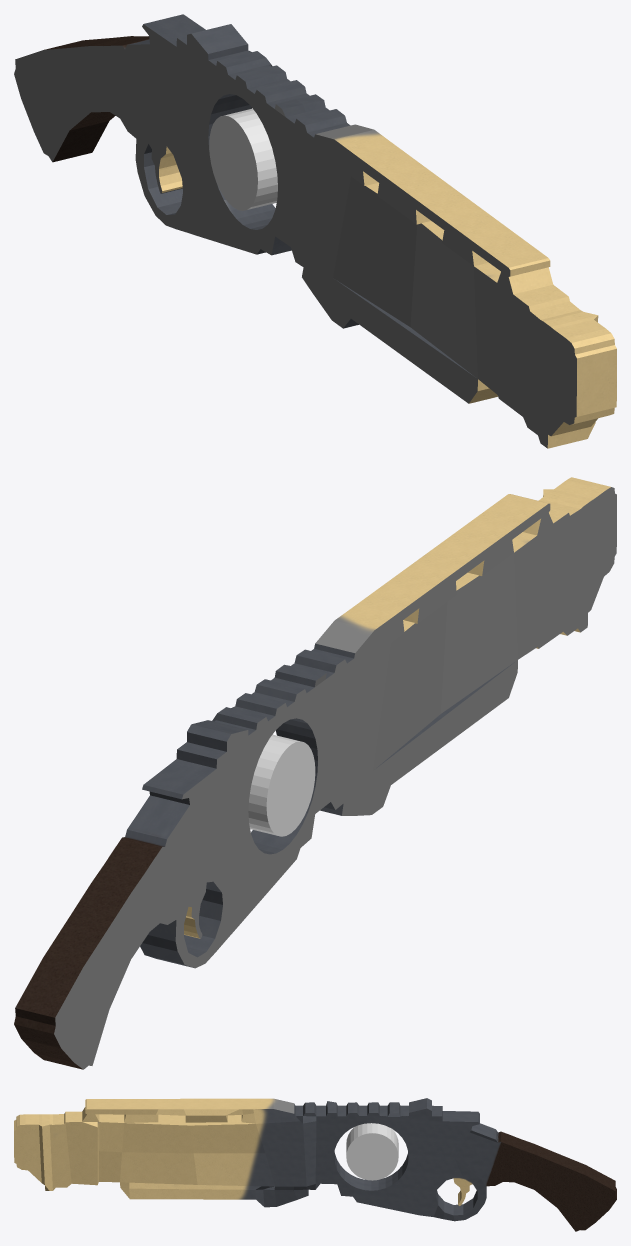
The model's file is sci-fi shotgun.fbx.
3 renders of one model, top to bottom at view 1: azimuth 30°, elevation 25°; view 2: azimuth 150°, elevation 25°; view 3: azimuth 270°, elevation 25°, orthographic. The views are drawn at different scales.
Visible parts, largest first — view 1: Plane, Cylinder; view 2: Plane, Cylinder; view 3: Plane, Cylinder.
Boxes of the visible parts, <box> form: Plane: <box>14,14,616,448</box>; Cylinder: <box>209,108,277,210</box>; Plane: <box>14,477,616,1069</box>; Cylinder: <box>248,734,315,836</box>; Plane: <box>14,1098,616,1231</box>; Cylinder: <box>346,1123,398,1180</box>.
Size of the model in its own units: 28.29 by 101 by 449.
1 material, 1 textured.
